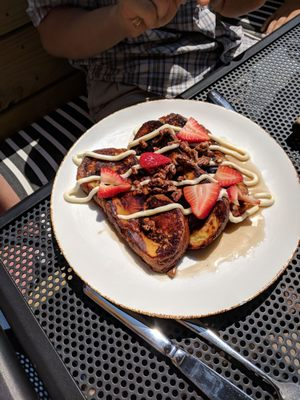soup: (70, 112, 265, 275)
